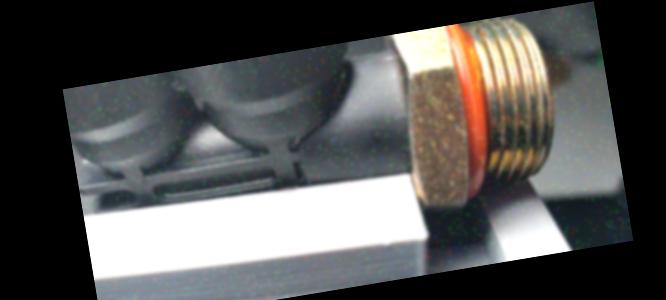joint line: (353, 58, 379, 68)
white mark: (379, 49, 399, 63)
